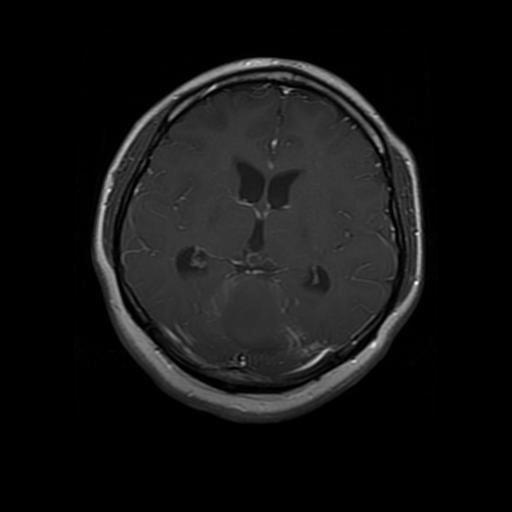Tumour-Glioma: (211, 270, 295, 352)
